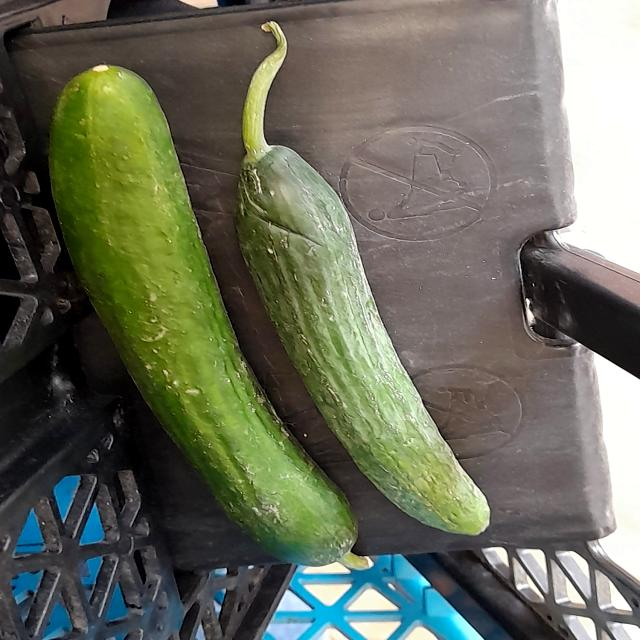cucumber: (37, 51, 361, 571), (227, 68, 495, 536)
